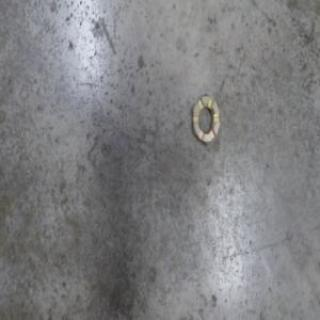Nuttrack_idkeyframe: (191, 90, 219, 146)
